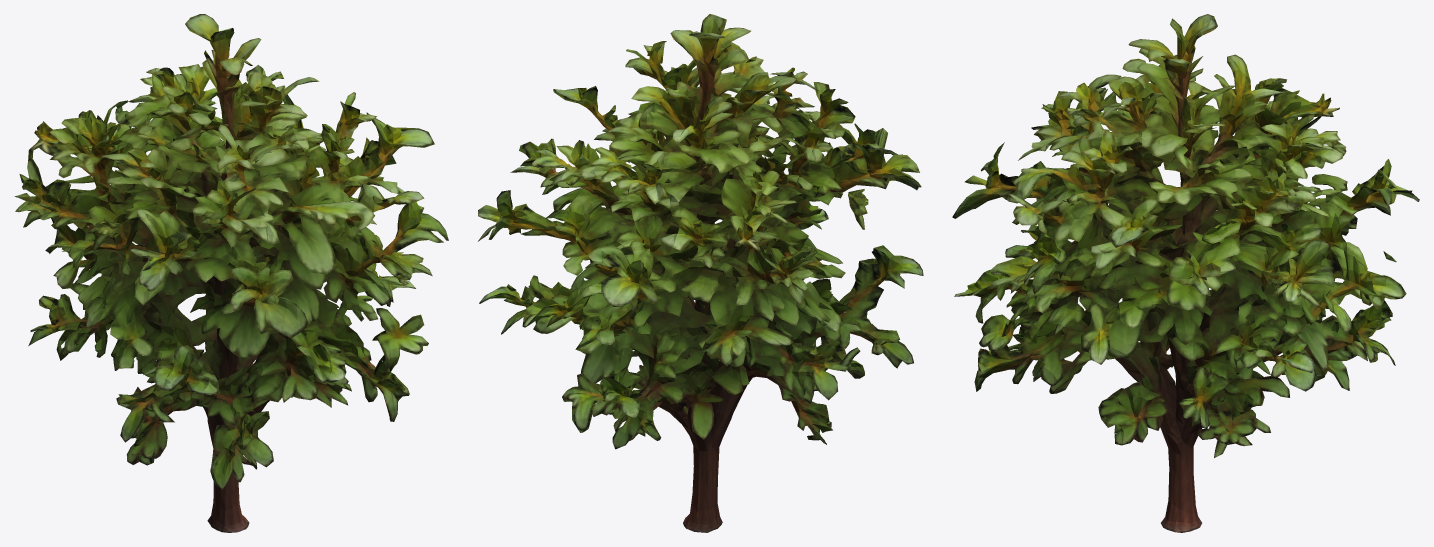
The model's file is Thyme.glb.
3 views of the same model, side by side, from view 1: azimuth 30°, elevation 25°; view 2: azimuth 150°, elevation 25°; view 3: azimuth 270°, elevation 25° (orthographic).
Parts seen in each view (by area): view 1: world; view 2: world; view 3: world.
Boxes of the visible parts, <box> form: world: <box>14,14,448,532</box>; world: <box>478,14,923,532</box>; world: <box>952,14,1419,532</box>.
Size of the model in its own units: 0.7252 by 1 by 0.8506.
Materials: 1 (1 with a texture image).
